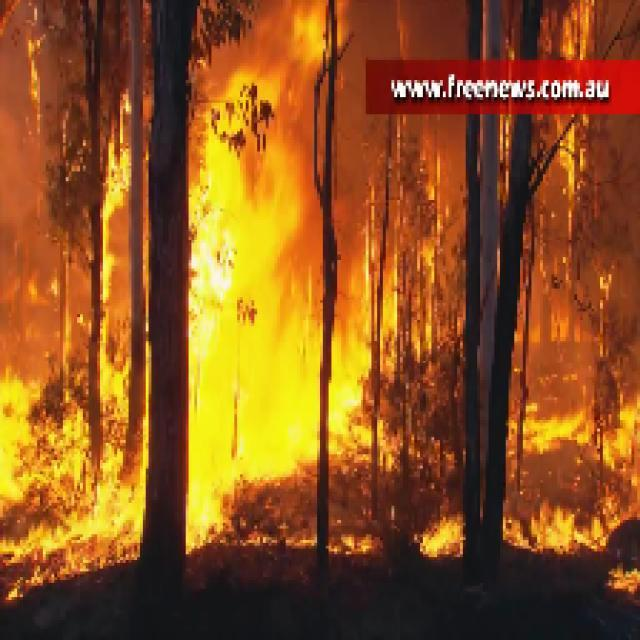Fire: (183, 11, 314, 552), (2, 368, 138, 572), (95, 140, 132, 363), (520, 392, 640, 457), (501, 502, 608, 548)
Smoke: (3, 92, 66, 348)
